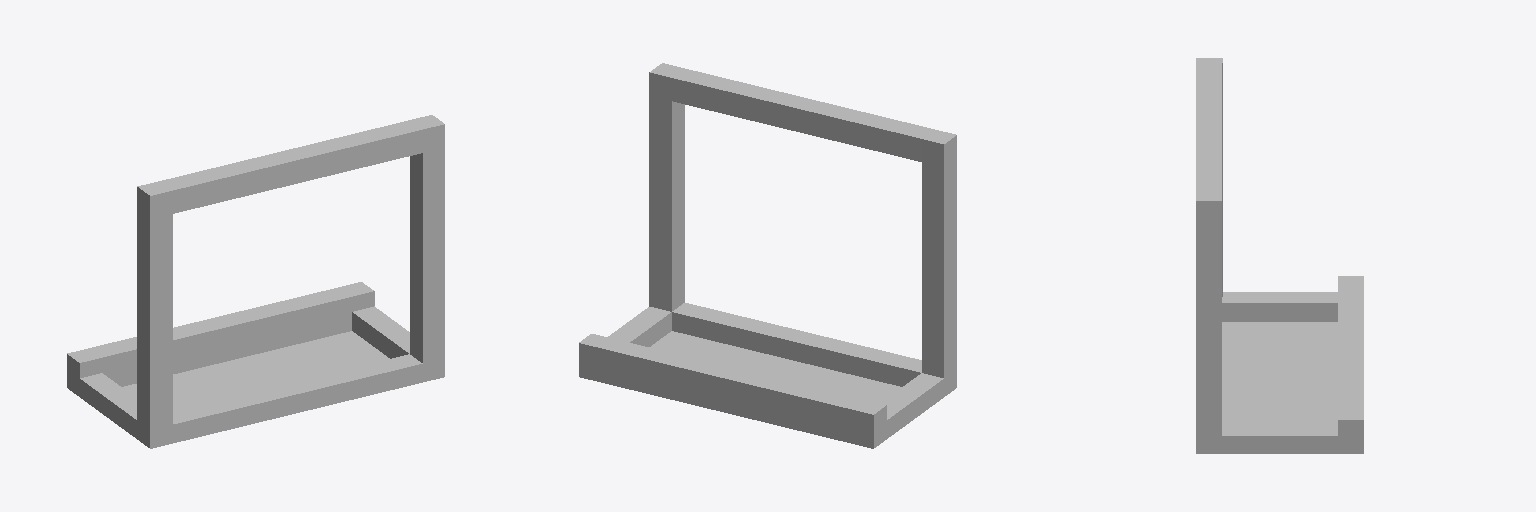
File: BarrierFrame.obj
3 renders of one model, left to right at view 1: azimuth 30°, elevation 25°; view 2: azimuth 150°, elevation 25°; view 3: azimuth 270°, elevation 25°, orthographic.
Visible parts, largest first — view 1: BarrierFrame_barrierFrame_mesh; view 2: BarrierFrame_barrierFrame_mesh; view 3: BarrierFrame_barrierFrame_mesh.
Part boxes in pixels (bbox=[...]): BarrierFrame_barrierFrame_mesh: bbox=[67, 115, 444, 448]; BarrierFrame_barrierFrame_mesh: bbox=[579, 63, 956, 448]; BarrierFrame_barrierFrame_mesh: bbox=[1196, 58, 1363, 453].
Size of the model in its own units: 2 by 1.64 by 0.9823.